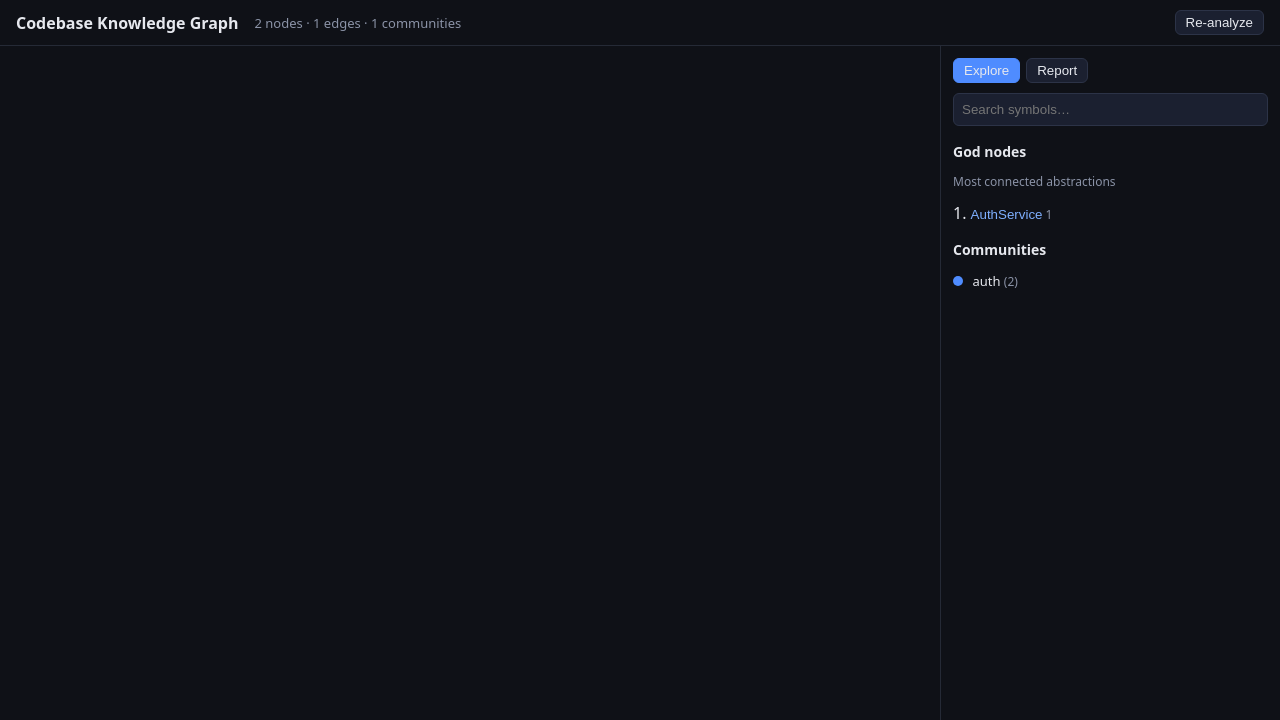
Test case: App › shows node details when a god node is selected
The image size is (1280, 720).
Click the button "AuthService". click: [1007, 214]
box: 971,207 -> 1042,222
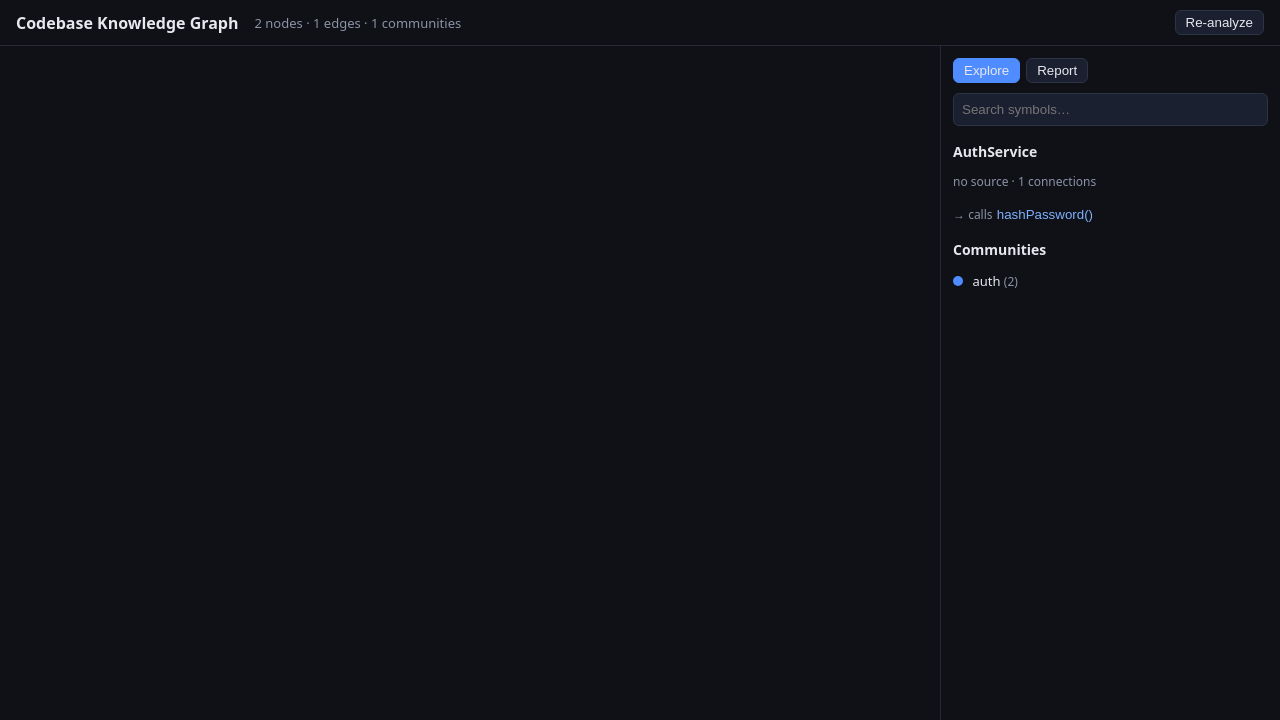
Expected: the element with test id "details" shows "hashPassword()", 997,207 -> 1093,222
